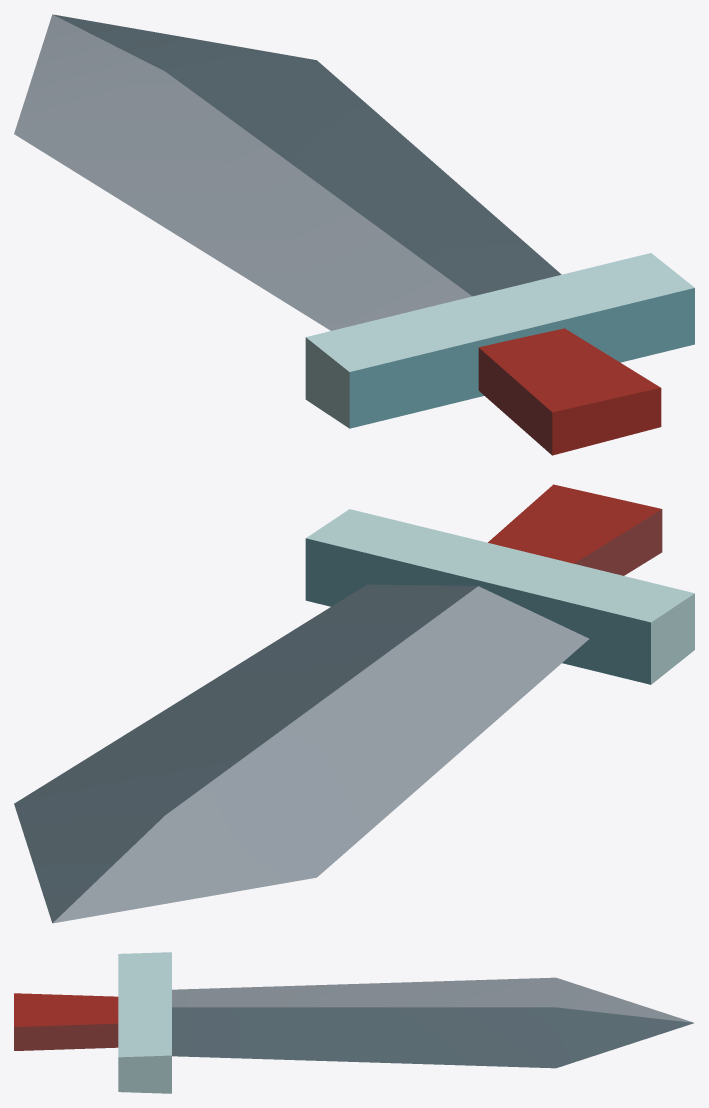
File: Sword_02.fbx
3 renders of one model, top to bottom at view 1: azimuth 30°, elevation 25°; view 2: azimuth 150°, elevation 25°; view 3: azimuth 270°, elevation 25°, orthographic. The views are drawn at different scales.
Parts seen in each view (by area): view 1: Sword; view 2: Sword; view 3: Sword.
Boxes of the visible parts, x1,y1,x2,y2 form: Sword: (14,14,694,455); Sword: (14,484,694,923); Sword: (14,952,693,1093).
Size of the model in its own units: 126 by 21.74 by 350.
